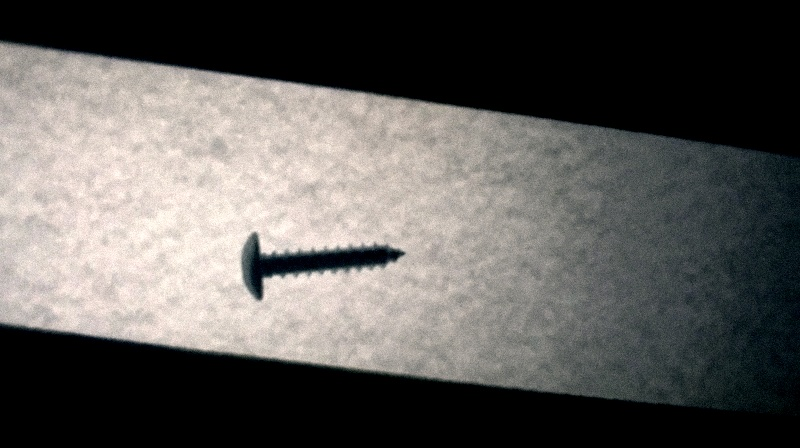S003: (235, 230, 411, 302)
